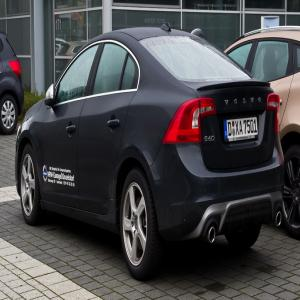Vehicle-registration-plate: (224, 117, 260, 139)
